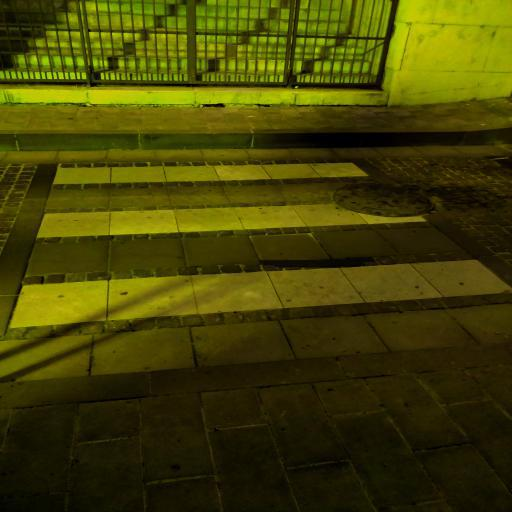crosswalk: (23, 152, 437, 248)
